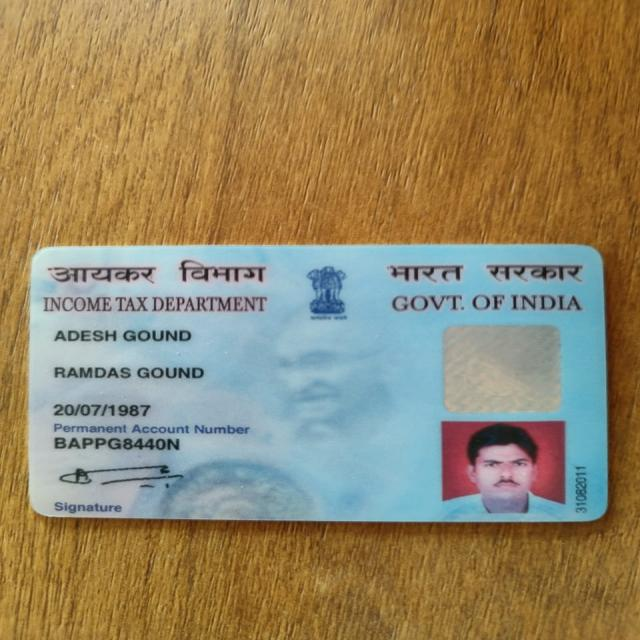pan_card: (29, 245, 610, 518)
